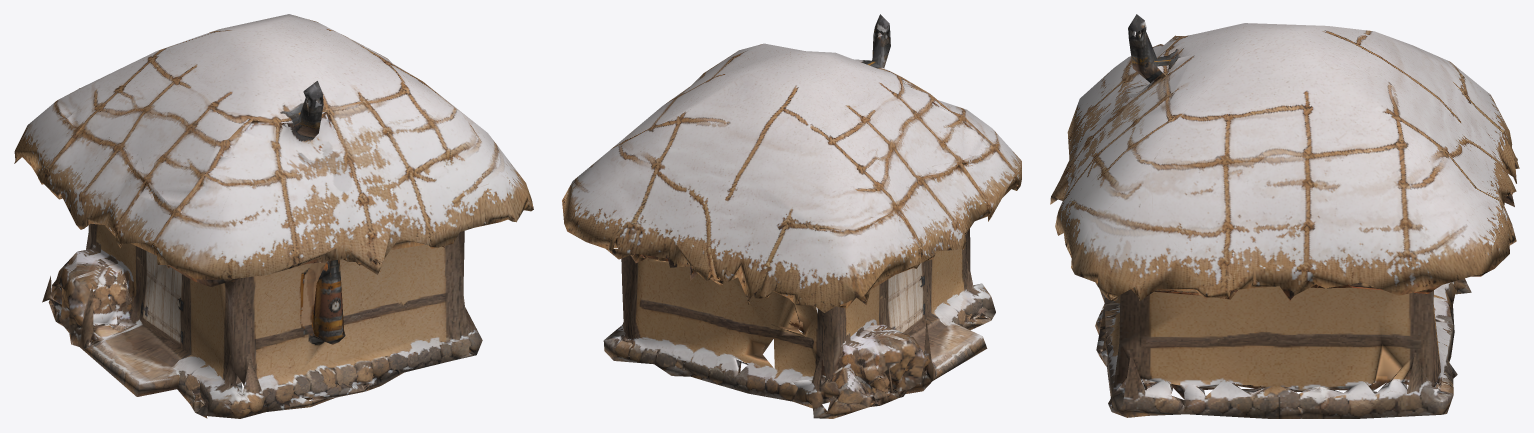
Rendered from PR_ChogaHut.fbx.
3 renders of one model, left to right at view 1: azimuth 30°, elevation 25°; view 2: azimuth 150°, elevation 25°; view 3: azimuth 270°, elevation 25°, orthographic. The views are drawn at different scales.
Visible parts, largest first — view 1: texture_mapping; view 2: texture_mapping; view 3: texture_mapping.
Part boxes in pixels (<box>): texture_mapping: <box>14,14,533,418</box>; texture_mapping: <box>562,14,1021,418</box>; texture_mapping: <box>1050,14,1519,418</box>.
Bounding box in the file's own units: 0.972 × 0.9839 × 0.7569.
Materials: 1 (1 with a texture image).
